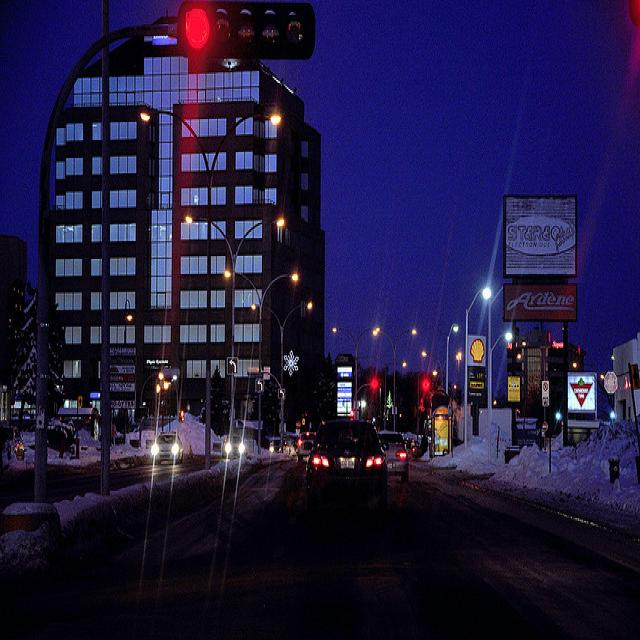Vehicle: (306, 418, 388, 508), (377, 429, 409, 484), (151, 432, 184, 465), (1, 424, 24, 460), (222, 434, 248, 459), (298, 432, 316, 456), (404, 439, 422, 460)
